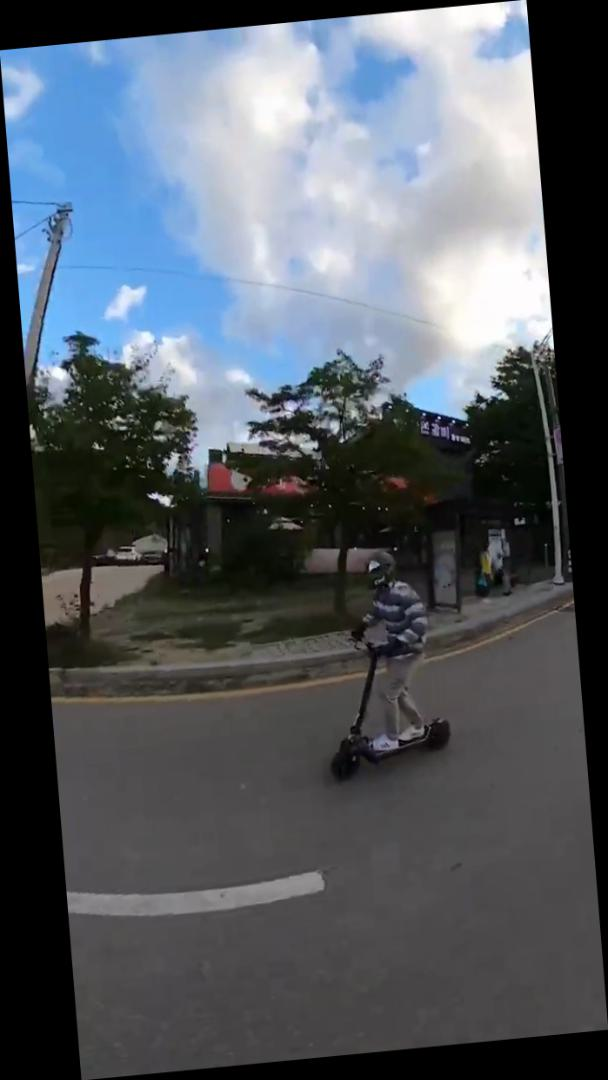helmet: (310, 542, 457, 783)
